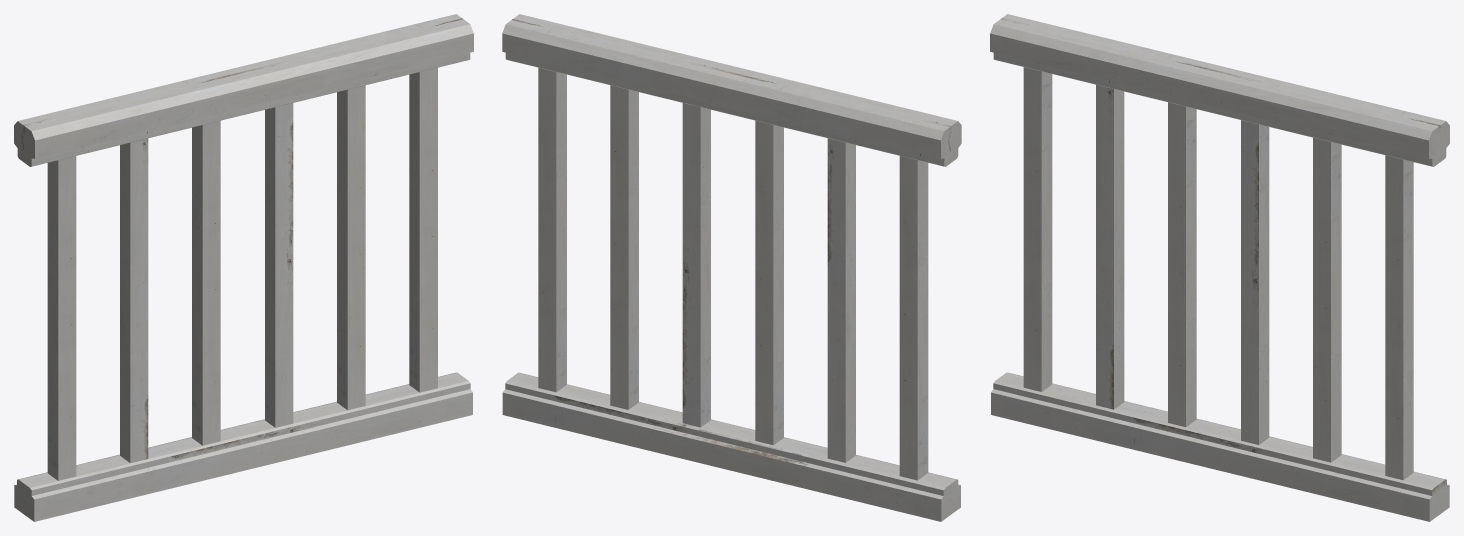
Rendered from Porch_Rail_1x.FBX.
3 renders of one model, left to right at view 1: azimuth 30°, elevation 25°; view 2: azimuth 150°, elevation 25°; view 3: azimuth 330°, elevation 25°, orthographic.
Visible parts, largest first — view 1: Porch_Rail_1x; view 2: Porch_Rail_1x; view 3: Porch_Rail_1x.
Part boxes in pixels (left/top/right/bottom): Porch_Rail_1x: left=14, top=14, right=473, bottom=521; Porch_Rail_1x: left=502, top=14, right=961, bottom=521; Porch_Rail_1x: left=990, top=14, right=1449, bottom=521.
Size of the model in its own units: 100 by 84.7 by 8.23.
